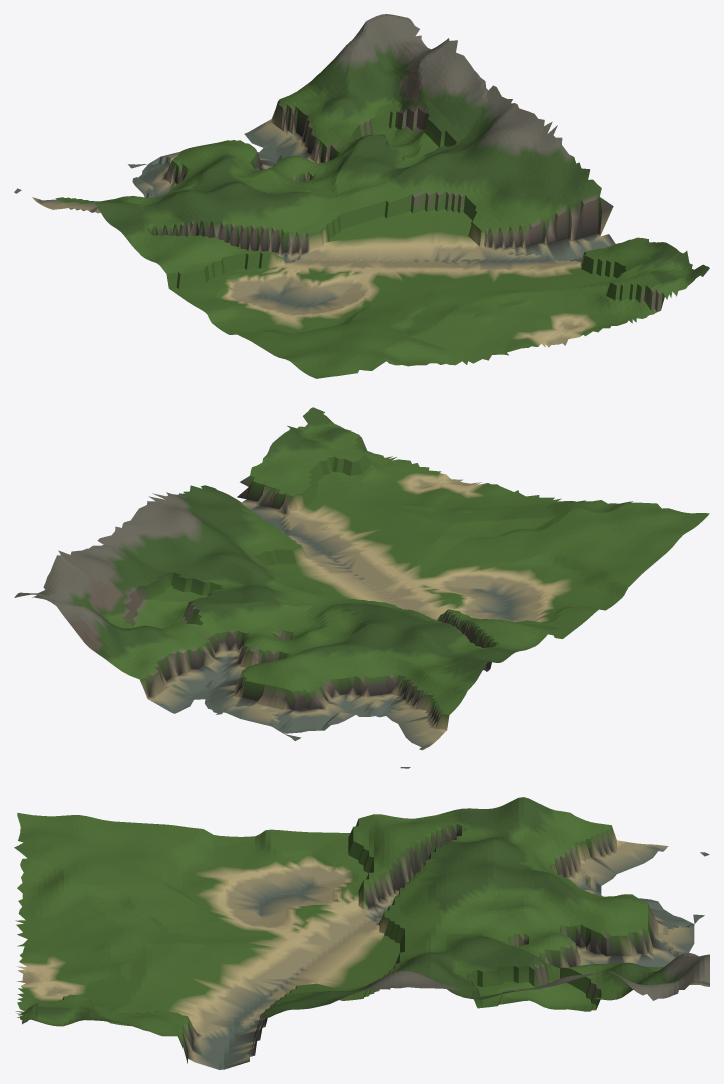
The model's file is coast_tile_x0z0_lod1.glb.
3 renders of one model, top to bottom at view 1: azimuth 30°, elevation 25°; view 2: azimuth 150°, elevation 25°; view 3: azimuth 270°, elevation 25°, orthographic. The views are drawn at different scales.
Visible parts, largest first — view 1: geometry_0; view 2: geometry_0; view 3: geometry_0.
Part boxes in pixels (x1,y1,x2,y2): geometry_0: [14, 14, 709, 378]; geometry_0: [14, 407, 709, 768]; geometry_0: [14, 797, 709, 1069].
Bounding box in the file's own units: 612 × 129 × 808.
